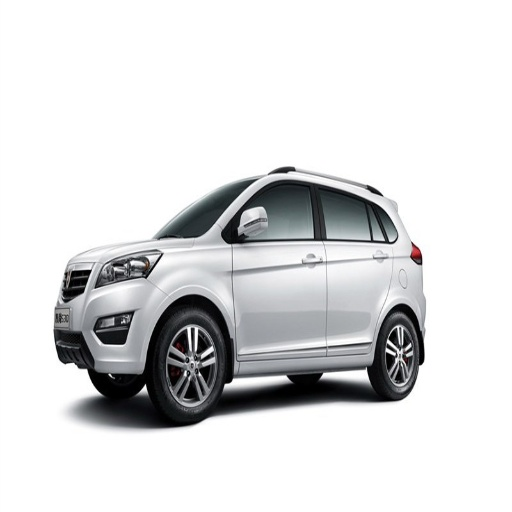back_left_door: (314, 183, 392, 351)
front_bumper: (53, 258, 166, 373)
front_glass: (159, 184, 244, 237)
front_left_door: (231, 179, 326, 354)
